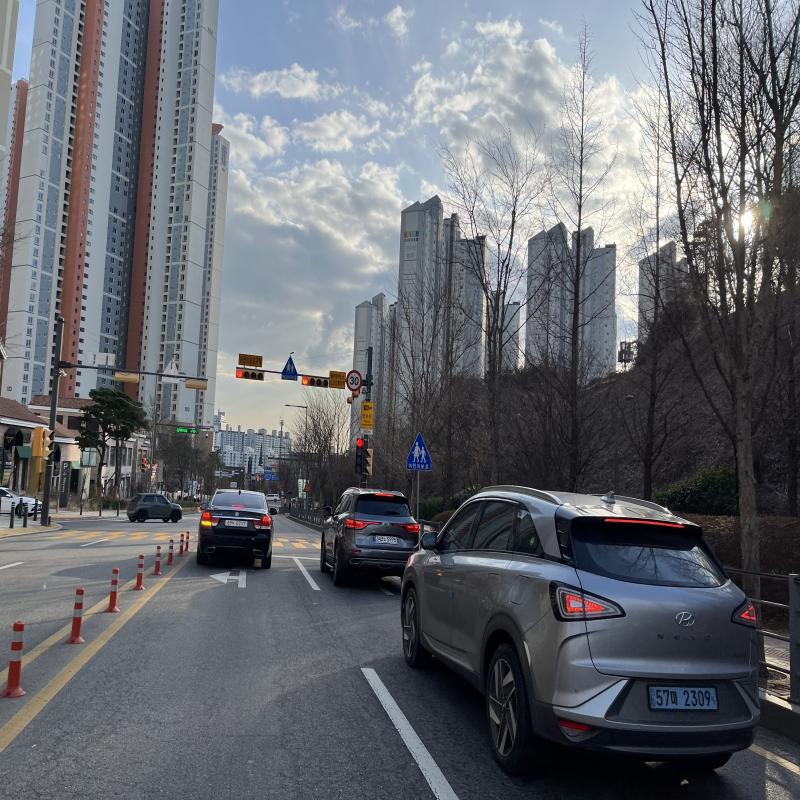red: (357, 439, 363, 448)
